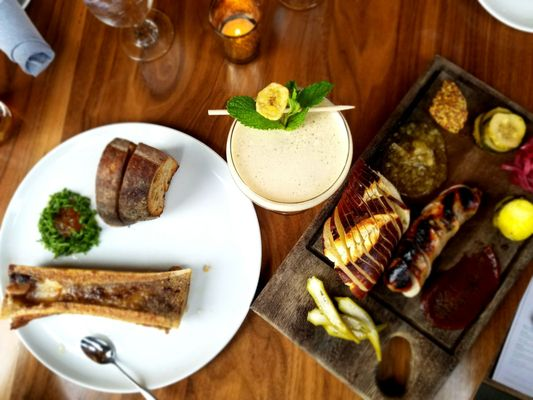curry: (38, 188, 103, 260)
salad: (79, 333, 158, 400)
